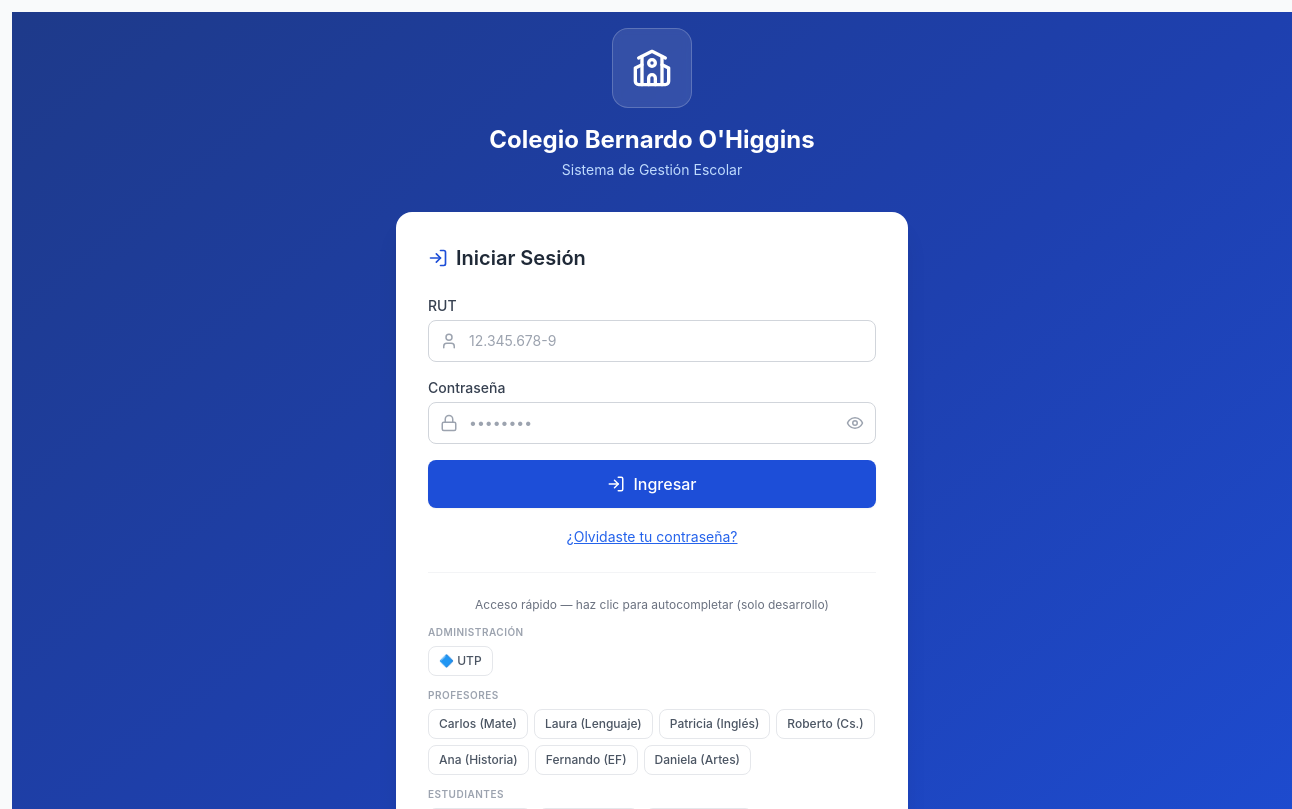
Test: Login › envía RUT y contraseña, crea la sesión y navega al panel
The width and height of the screenshot is (1292, 809).
In the field with placeholder "12.345.678-9": [652, 341] box [428,320,876,362], type "12345678-9"
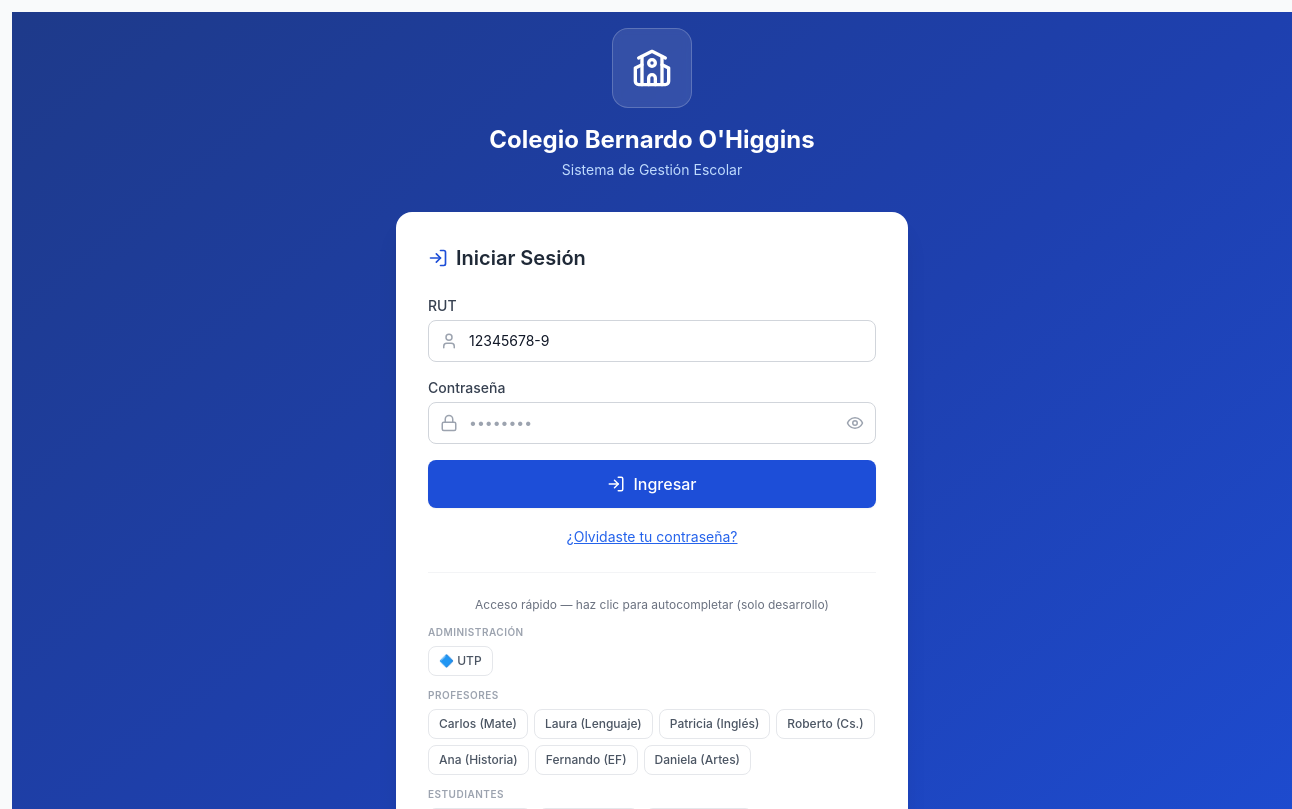
In the password field with placeholder "••••••••": [652, 423] box [428,402,876,444], type "clave-test"
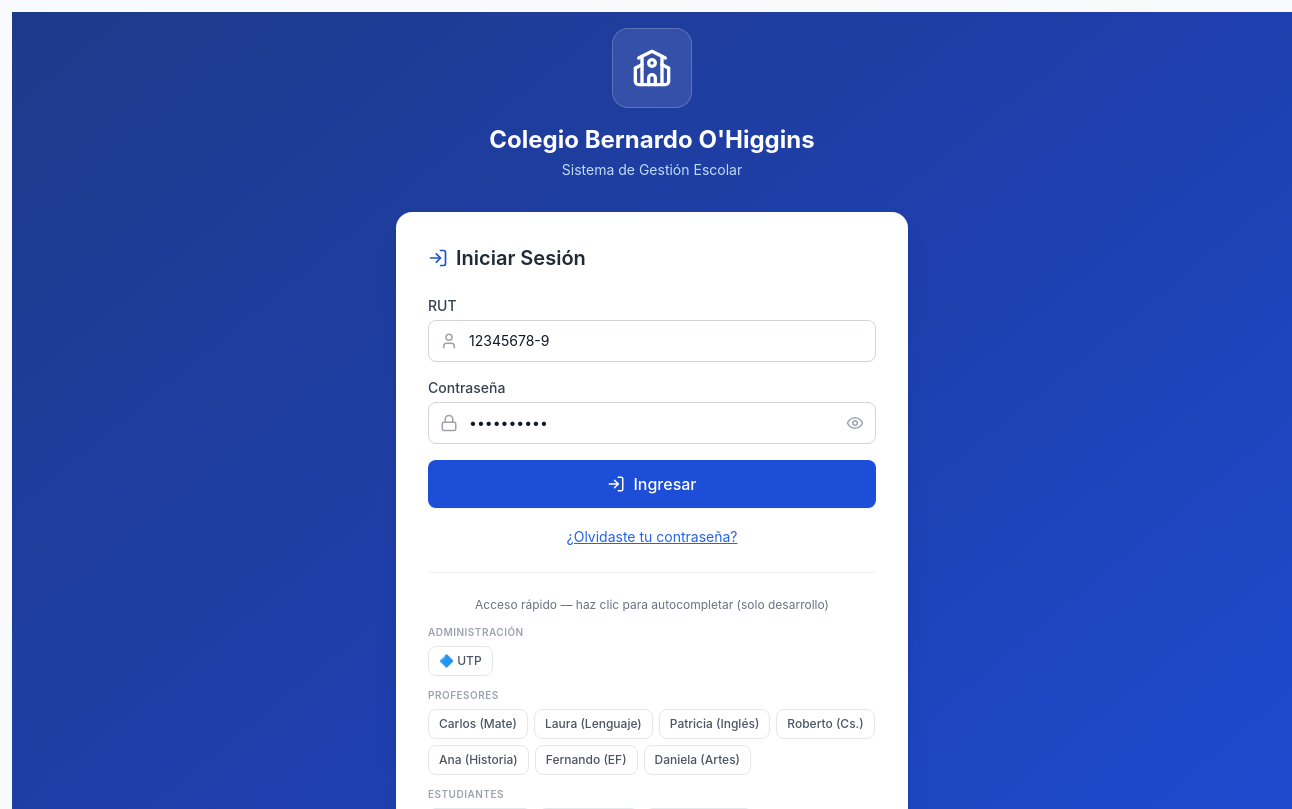
Click the button "Ingresar": [652, 484] box [428,460,876,508]
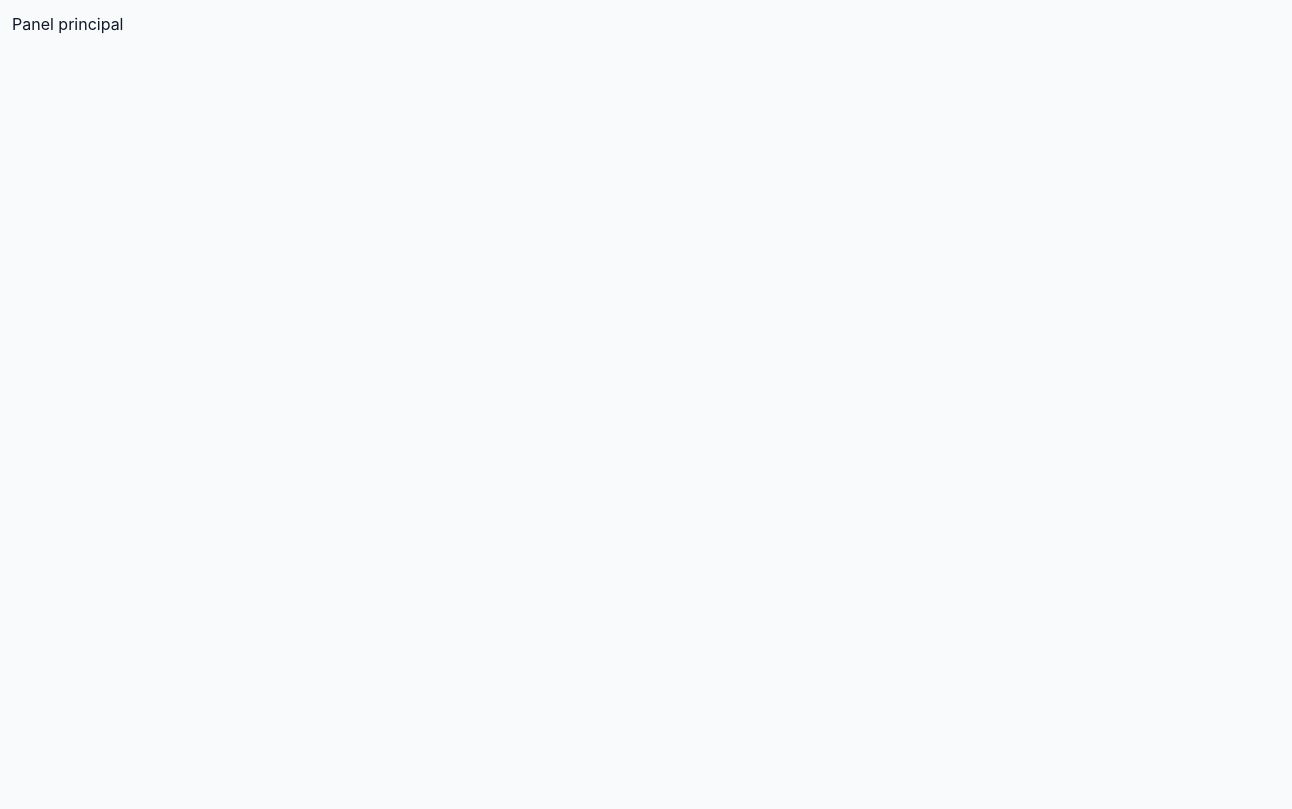
Expected: the heading "Panel principal" is shown, [12,14,124,34]
